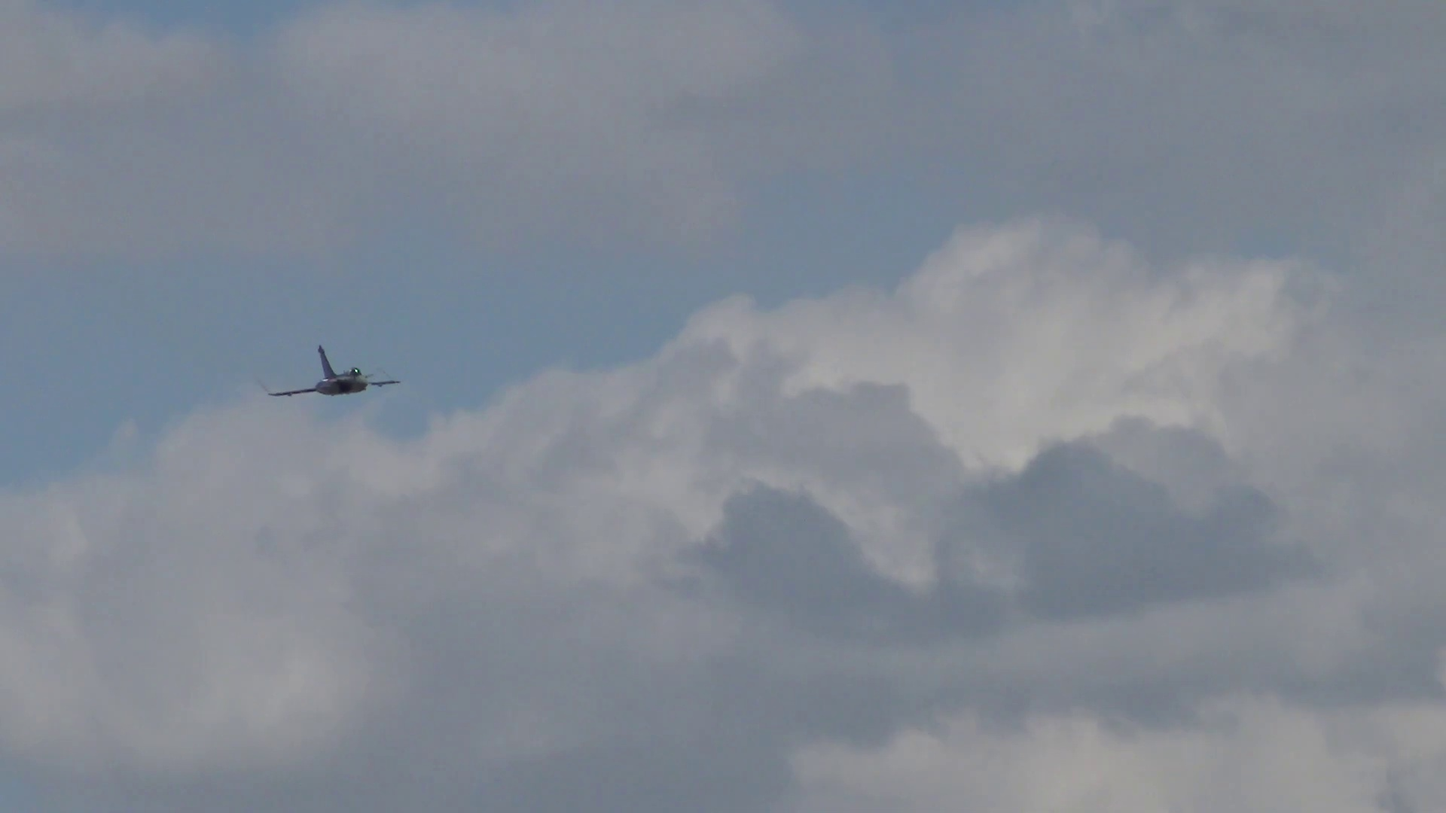Rafale: (267, 344, 401, 397)
